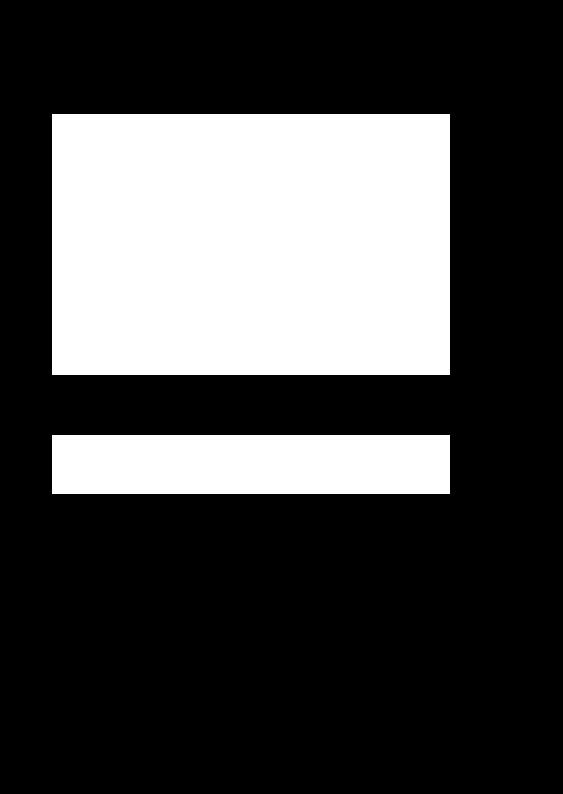table: (52, 114, 449, 374), (52, 435, 449, 493)
